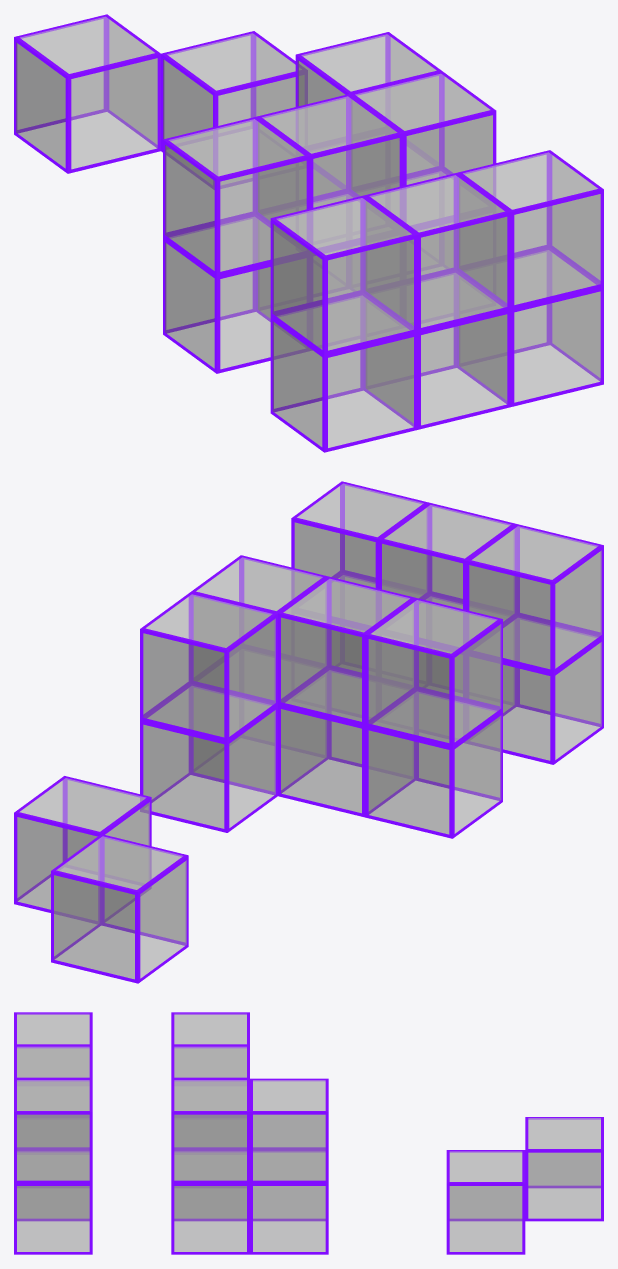
The model's file is (4)M XWall.fbx.
3 views of the same model, one above another, from view 1: azimuth 30°, elevation 25°; view 2: azimuth 150°, elevation 25°; view 3: azimuth 270°, elevation 25° (orthographic). The views are drawn at different scales.
Visible parts, largest first — view 1: Wall.006, Wall.016, Wall.001, Wall.009, Wall.008, Wall.007, Wall.017, Wall.005, Wall.002, Wall.010, Wall.011, Wall.015 (+3 smaller); view 2: Wall.014, Wall.009, Wall.016, Wall.017, Wall.010, Wall.022, Wall.006, Wall.001, Wall.011, Wall.018, Wall.015, Wall.007 (+4 smaller); view 3: Wall.015, Wall.008, Wall.011, Wall.014, Wall.016, Wall.022, Wall.005, Wall.019, Wall.010, Wall.007, Wall.006, Wall.009 (+2 smaller).
Boxes of the visible parts, x1,y1,x2,y2 form: Wall.006: [270, 195, 417, 354]; Wall.016: [14, 14, 160, 173]; Wall.001: [270, 293, 417, 452]; Wall.009: [163, 117, 309, 276]; Wall.008: [457, 150, 603, 309]; Wall.007: [364, 173, 510, 332]; Wall.017: [163, 214, 309, 373]; Wall.005: [458, 247, 603, 406]; Wall.002: [363, 270, 510, 429]; Wall.010: [256, 94, 403, 252]; Wall.011: [349, 71, 496, 227]; Wall.015: [161, 31, 307, 188]; Wall.014: [140, 592, 277, 741]; Wall.009: [365, 598, 502, 747]; Wall.016: [51, 834, 188, 983]; Wall.017: [365, 689, 502, 838]; Wall.010: [278, 576, 415, 725]; Wall.022: [140, 683, 277, 832]; Wall.006: [466, 524, 603, 673]; Wall.001: [467, 615, 603, 764]; Wall.011: [190, 555, 328, 703]; Wall.018: [278, 668, 415, 817]; Wall.015: [14, 776, 151, 923]; Wall.007: [378, 502, 516, 651]; Wall.015: [446, 1150, 525, 1254]; Wall.008: [14, 1078, 92, 1183]; Wall.011: [171, 1078, 249, 1183]; Wall.014: [250, 1078, 328, 1183]; Wall.016: [525, 1117, 603, 1221]; Wall.022: [250, 1150, 328, 1254]; Wall.005: [14, 1150, 92, 1254]; Wall.019: [171, 1150, 249, 1254]; Wall.010: [171, 1045, 249, 1149]; Wall.007: [14, 1045, 92, 1149]; Wall.006: [14, 1012, 92, 1077]; Wall.009: [171, 1012, 249, 1077].
Size of the model in its own units: 600 by 400 by 1500.
